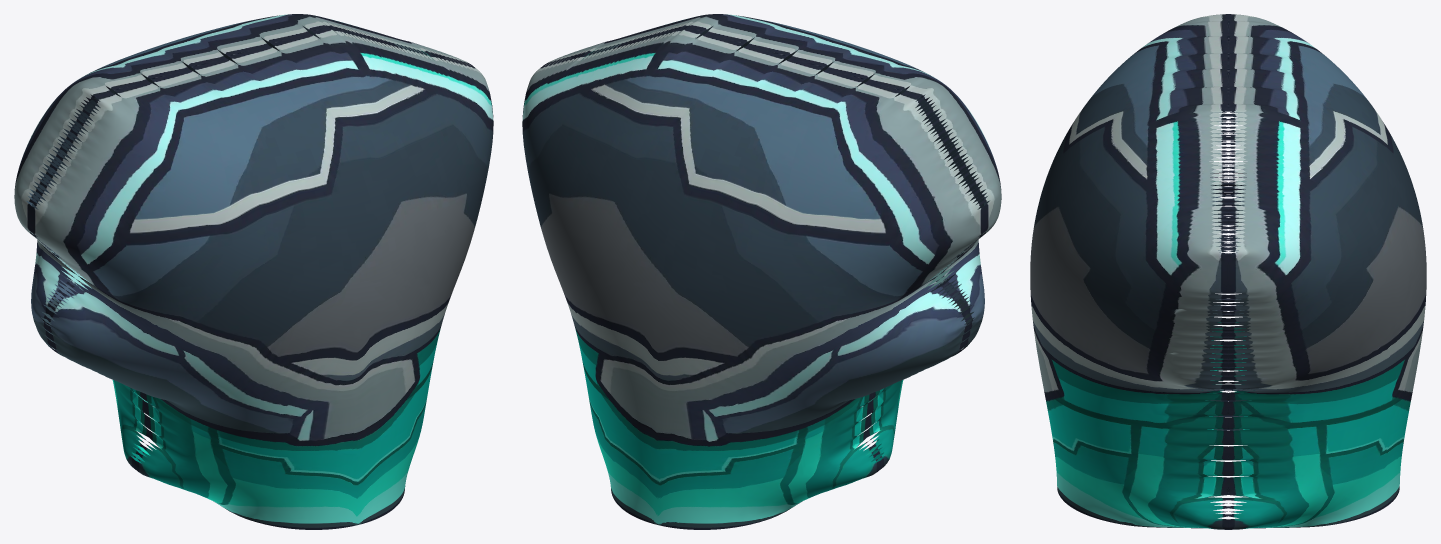
File: bank_machine.glb
3 views of the same model, side by side, from view 1: azimuth 30°, elevation 25°; view 2: azimuth 150°, elevation 25°; view 3: azimuth 270°, elevation 25° (orthographic). The views are drawn at different scales.
Visible parts, largest first — view 1: bank_machine; view 2: bank_machine; view 3: bank_machine.
Part boxes in pixels (x1,y1,x2,y2): bank_machine: (14,14,493,529); bank_machine: (522,14,1001,529); bank_machine: (1030,14,1426,529).
Bounding box in the file's own units: 0.9889 × 0.8898 × 0.7916.
1 material, 1 textured.
